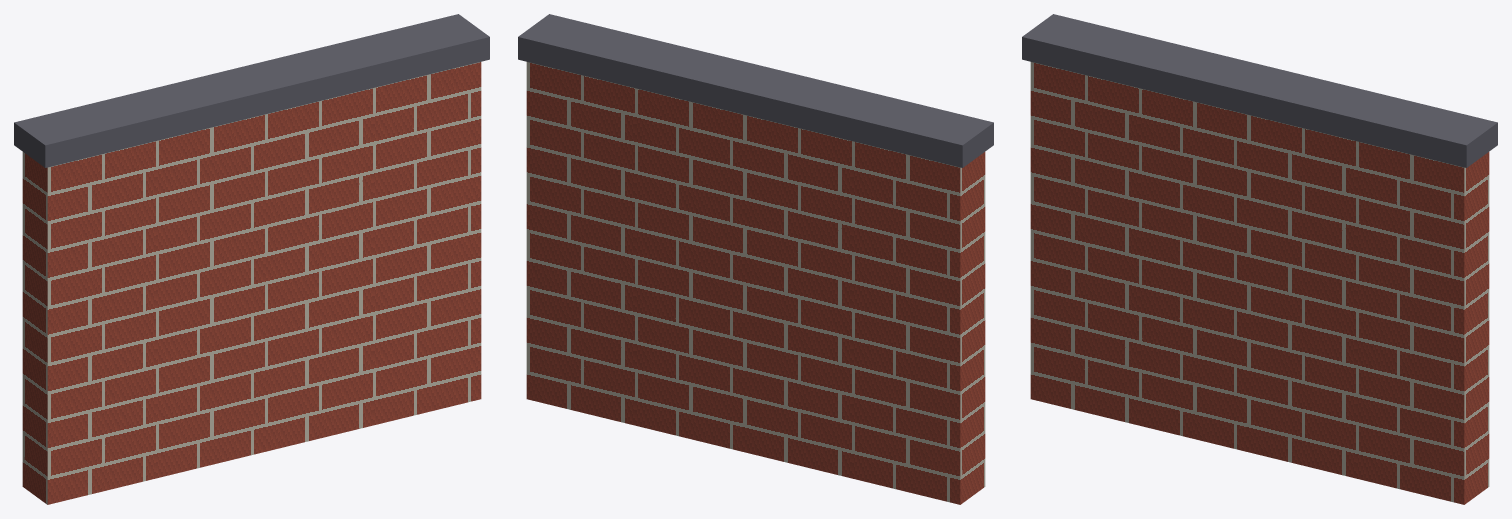
Rendered from wall_4.obj.
3 renders of one model, left to right at view 1: azimuth 30°, elevation 25°; view 2: azimuth 150°, elevation 25°; view 3: azimuth 330°, elevation 25°, orthographic.
Visible parts, largest first — view 1: body, cap; view 2: body, cap; view 3: body, cap.
Part boxes in pixels (x1,y1,x2,y2): body: (22, 62, 481, 504); cap: (14, 14, 489, 167); body: (526, 62, 985, 504); cap: (518, 14, 993, 167); body: (1030, 62, 1489, 504); cap: (1022, 14, 1497, 167).
Size of the model in its own units: 4.1 by 3.2 by 0.5.
2 materials, 1 textured.
